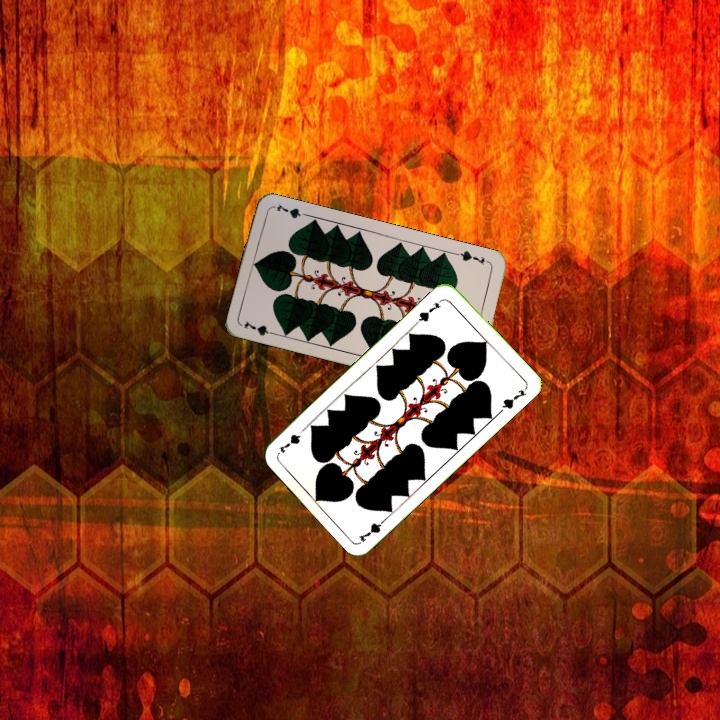G7: (354, 513, 390, 545), (412, 295, 446, 326), (240, 317, 280, 339), (452, 246, 487, 267)
